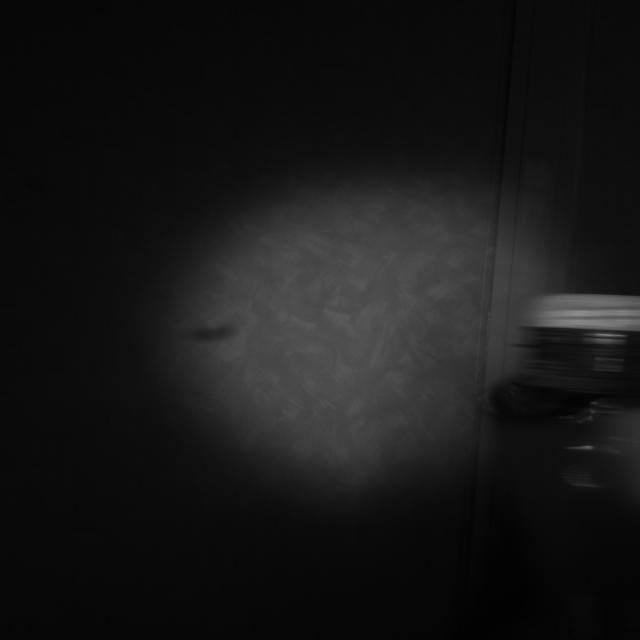Not Good: (518, 292, 640, 356)
